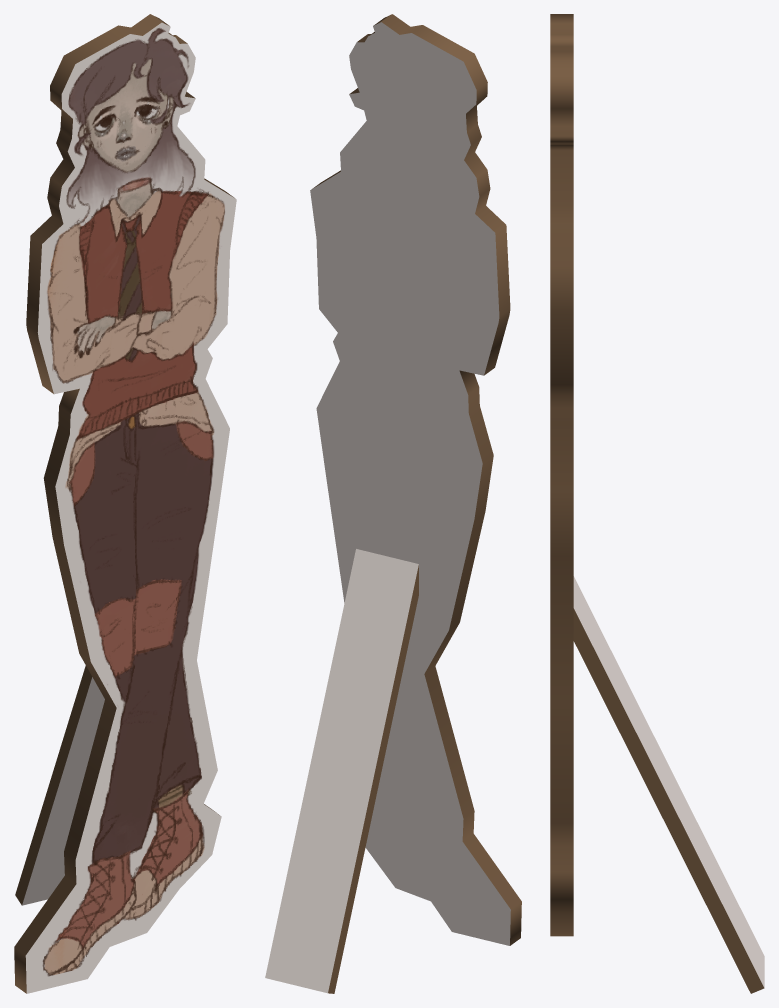
The model's file is Olov_Neutral.fbx.
3 views of the same model, side by side, from view 1: azimuth 30°, elevation 25°; view 2: azimuth 150°, elevation 25°; view 3: azimuth 270°, elevation 25° (orthographic). The views are drawn at different scales.
Parts seen in each view (by area): view 1: Olov_Neutral; view 2: Olov_Neutral; view 3: Olov_Neutral.
Part boxes in pixels (x1,y1,x2,y2): Olov_Neutral: (14,14,236,993); Olov_Neutral: (265,14,521,993); Olov_Neutral: (550,14,764,993).
Size of the model in its own units: 44.4 by 190 by 39.1.
Materials: 1 (1 with a texture image).
